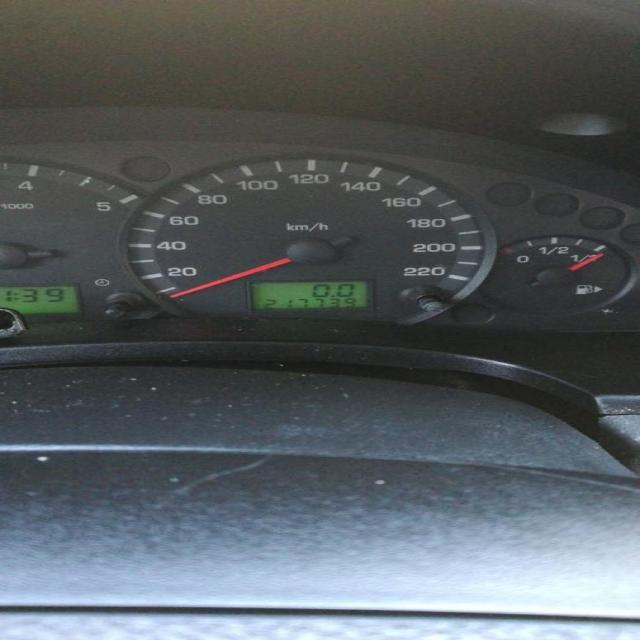odometer: (247, 278, 370, 310)
